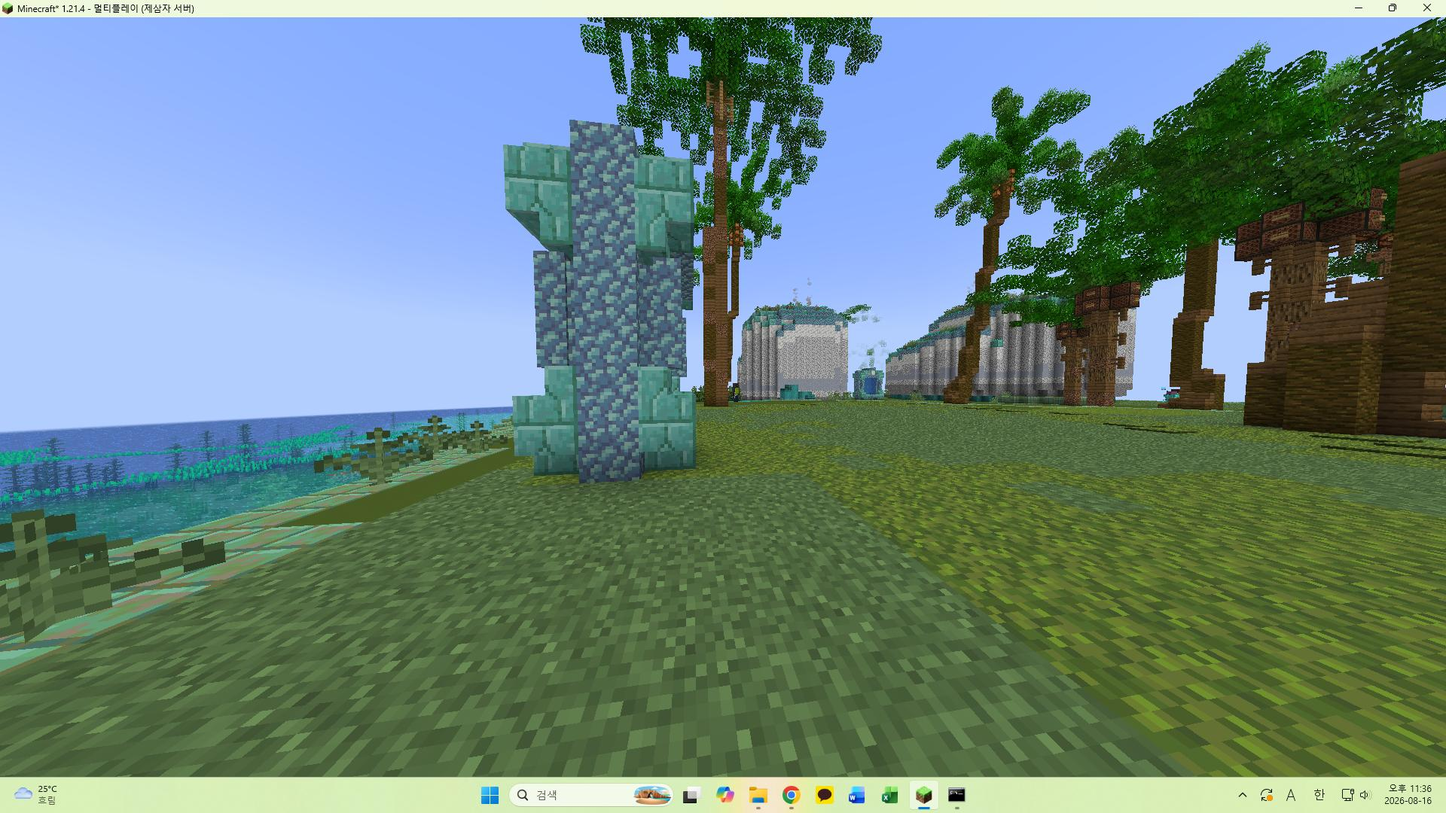Guardian: (730, 382, 741, 402)
